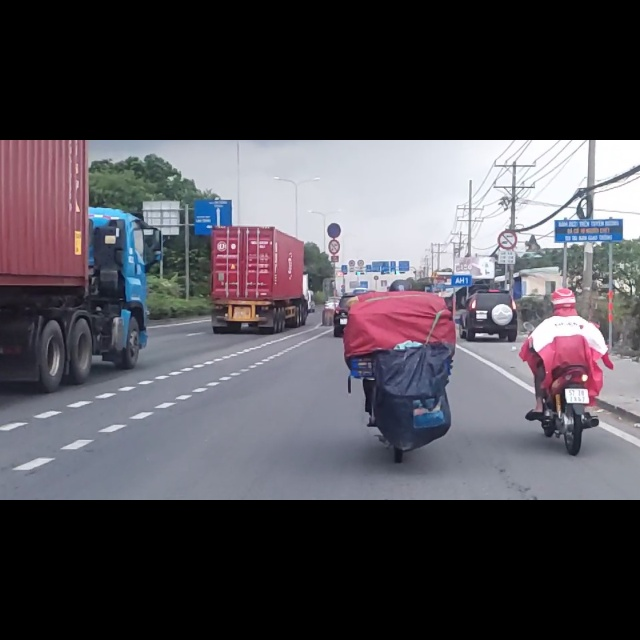bien_nguy_hiem: (498, 159, 517, 196), (327, 146, 342, 173), (329, 178, 340, 203)
